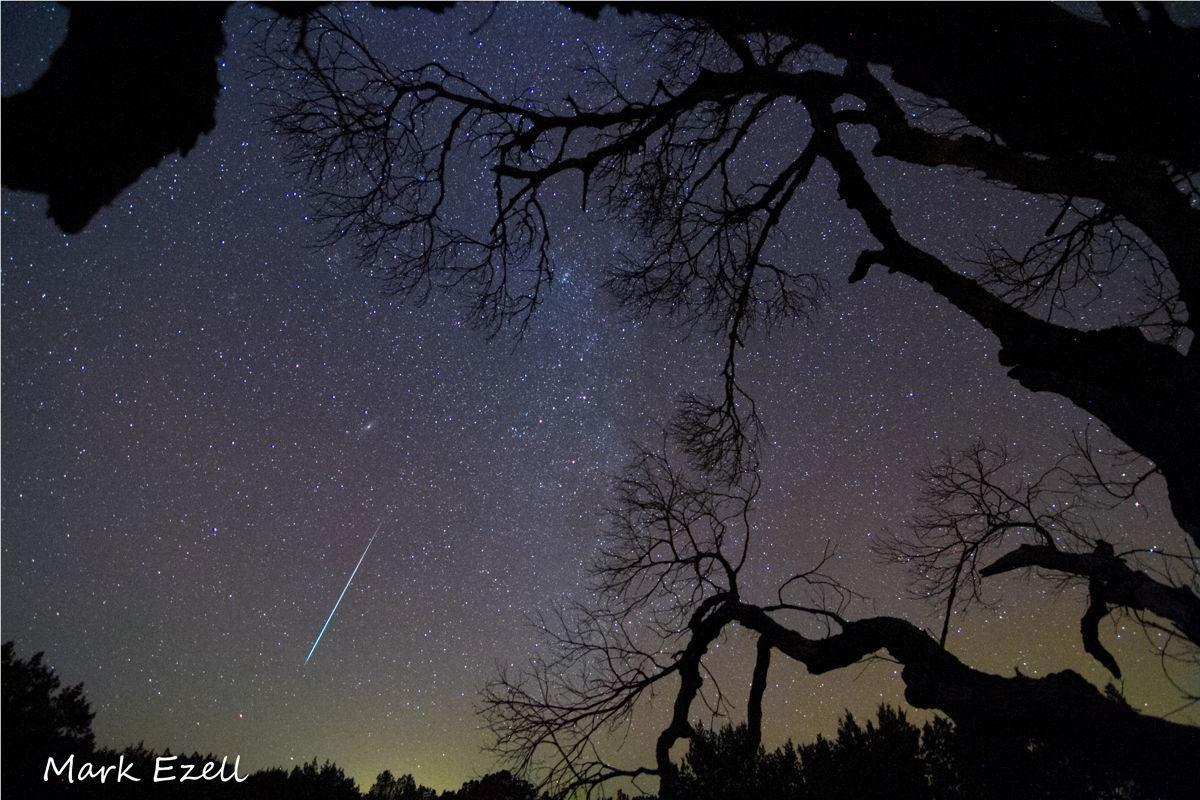meteorite: (276, 532, 409, 679)
